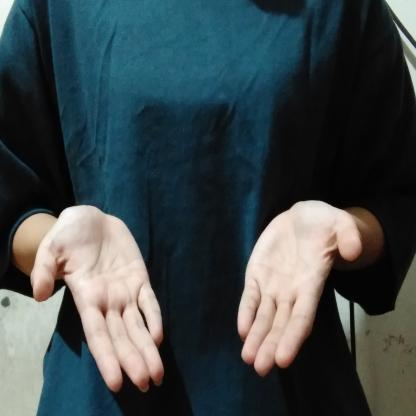what: (26, 191, 382, 399)
